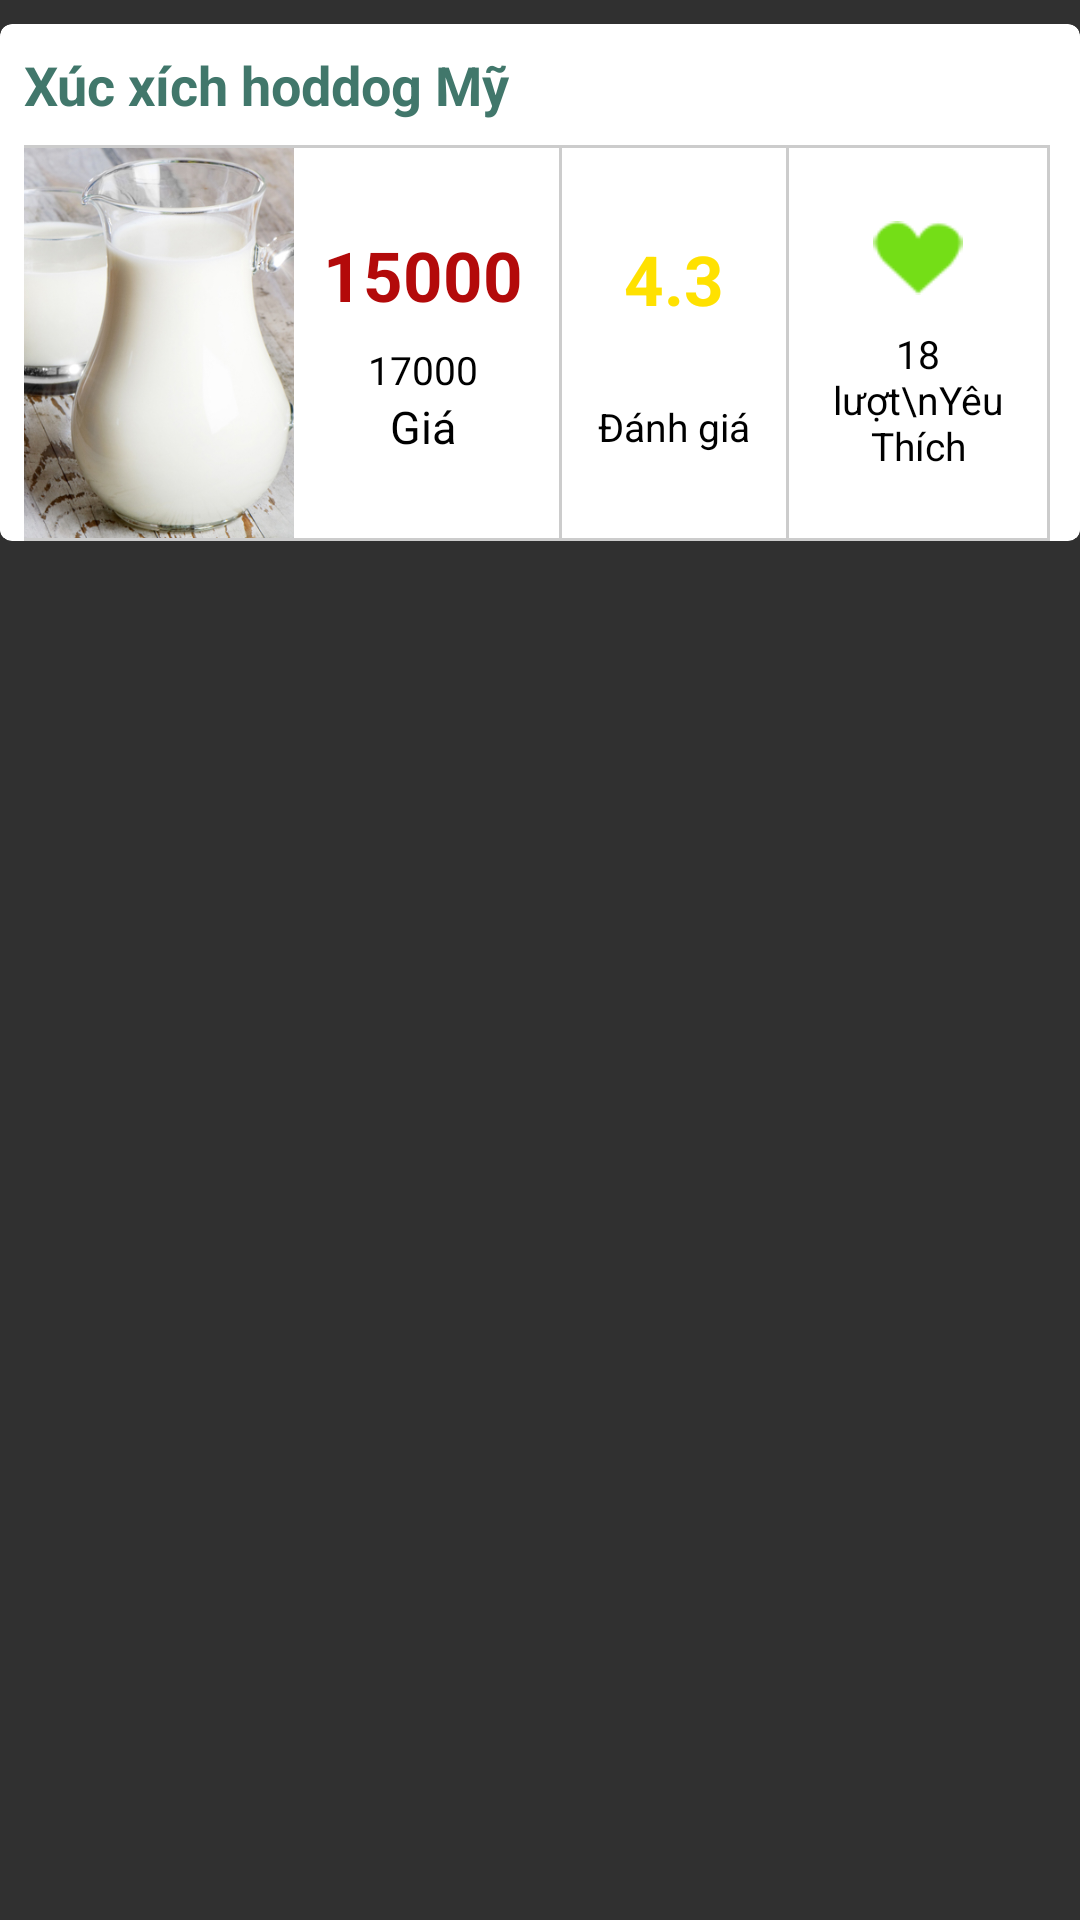

Point at icon controls on the screen. Image size 1080 × 1920, points as point (x, y).
like: point (918, 258)
